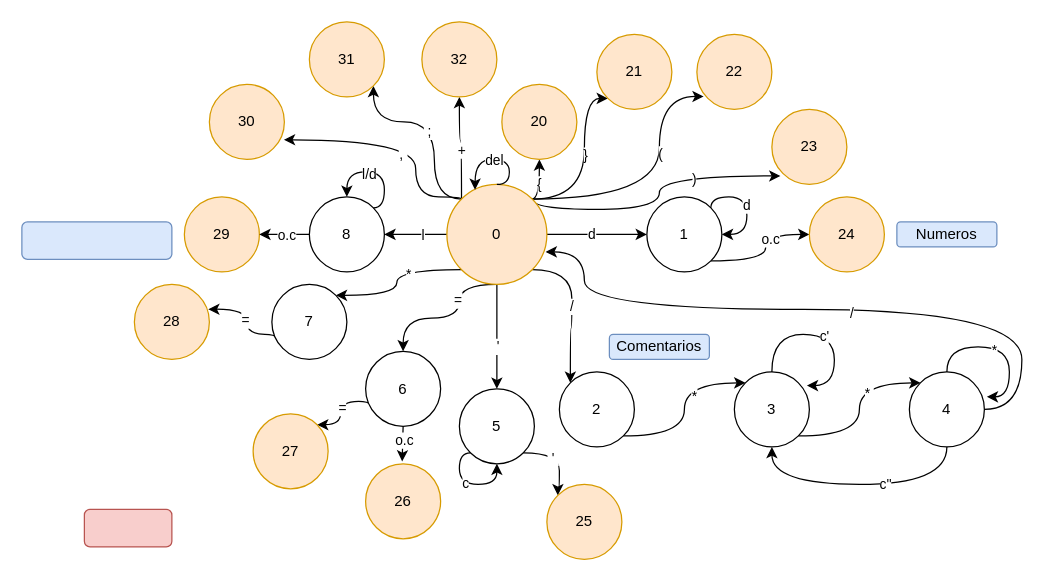
This 1044x581 diagram has some shape labels left out. The centre of each missing label's shape, as x and y in pixels:
"eof" goes at point (127, 527).
"Palabras Reservadas e Identificadores" goes at point (96, 240).
